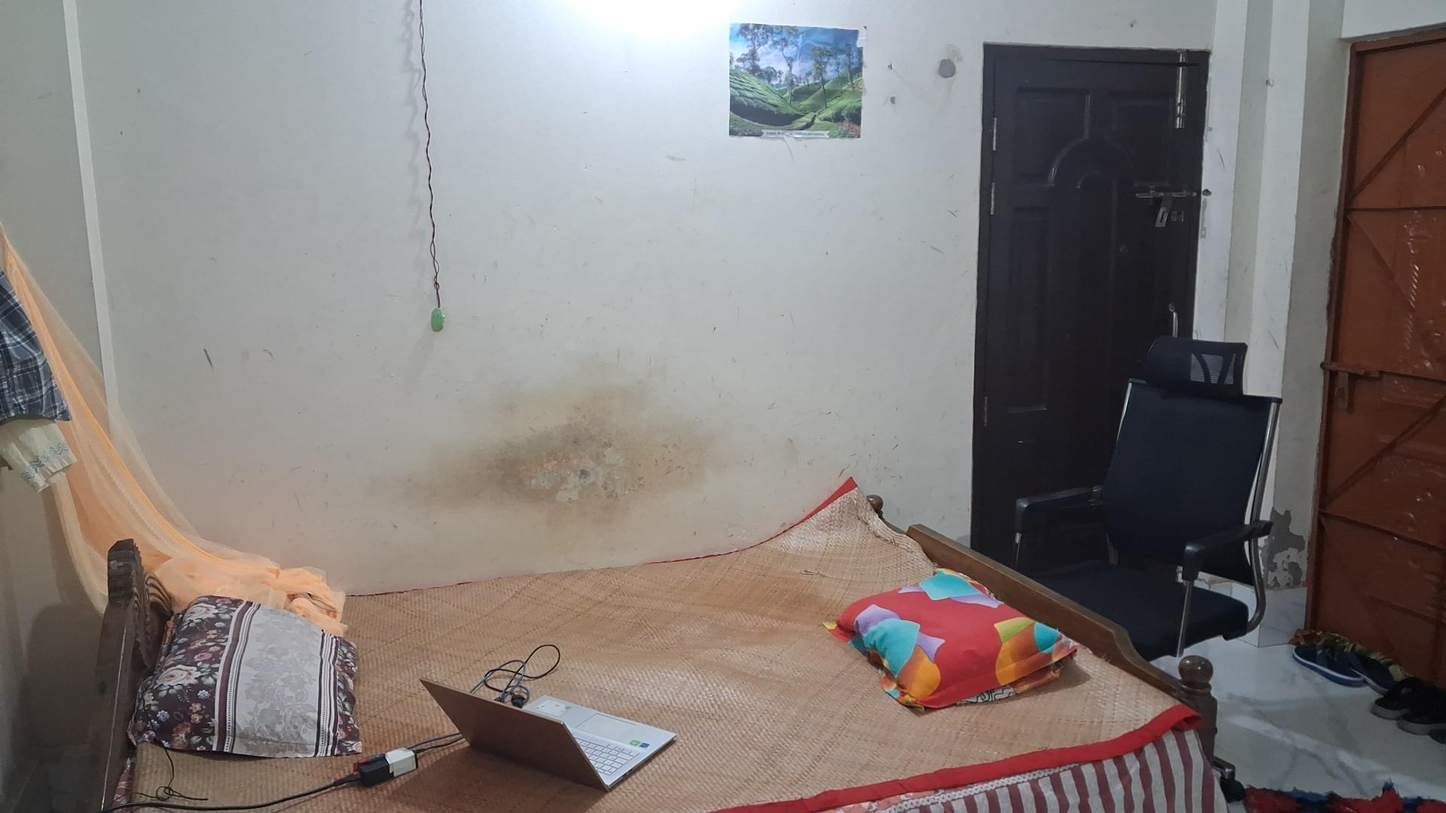Chair: (1013, 375, 1281, 664)
Footwear: (1292, 637, 1398, 693)
Laptop: (420, 677, 677, 793)
Photo: (720, 23, 869, 141)
Pillow: (138, 593, 364, 769), (817, 574, 1077, 700)
